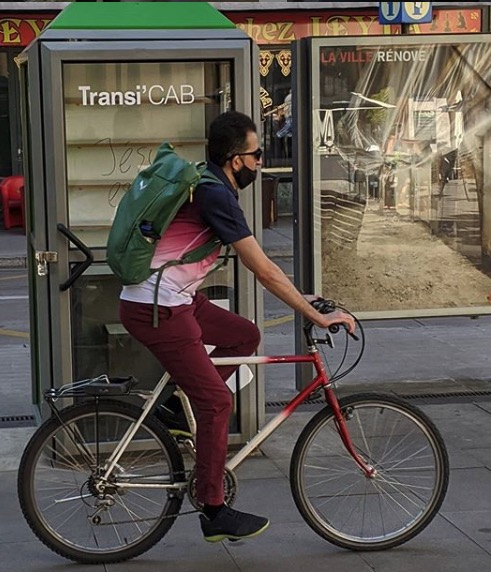mask_weared_incorrect: (231, 135, 272, 188)
